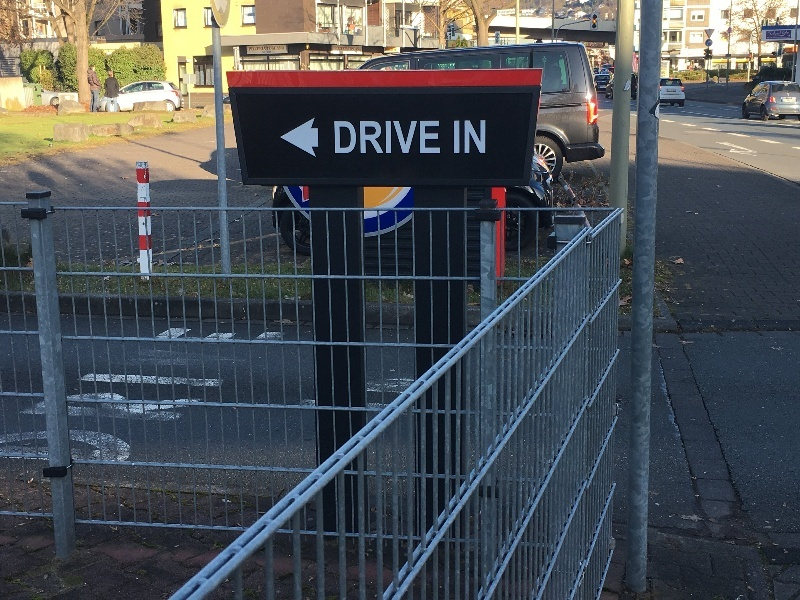text: (273, 321, 289, 475), (97, 321, 112, 475), (113, 321, 128, 475), (129, 321, 144, 475), (145, 321, 160, 475), (161, 321, 176, 475), (177, 321, 192, 475), (193, 321, 208, 475), (209, 321, 224, 475), (225, 321, 240, 475), (241, 321, 256, 475), (257, 321, 272, 475), (89, 321, 96, 475), (465, 121, 480, 154), (337, 121, 352, 154), (353, 121, 368, 154), (369, 121, 384, 154), (385, 121, 400, 154), (401, 121, 416, 154), (417, 121, 432, 154), (454, 121, 464, 154), (433, 121, 441, 154), (481, 121, 486, 154), (769, 31, 784, 39), (337, 47, 352, 52), (334, 121, 336, 154), (499, 10, 512, 15), (385, 48, 400, 52), (273, 46, 285, 51), (785, 31, 792, 39), (353, 47, 362, 52), (257, 47, 267, 51), (266, 46, 272, 51), (249, 47, 256, 51), (262, 51, 272, 53), (266, 51, 272, 54), (513, 10, 516, 15), (767, 31, 768, 39), (335, 47, 336, 52)
